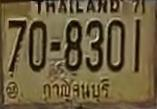0: (106, 19, 125, 71), (28, 20, 46, 71)
1: (135, 19, 140, 72)
3: (84, 19, 104, 71)
7: (8, 19, 26, 70)
8: (64, 20, 81, 70)
KRI: (39, 76, 111, 105)
